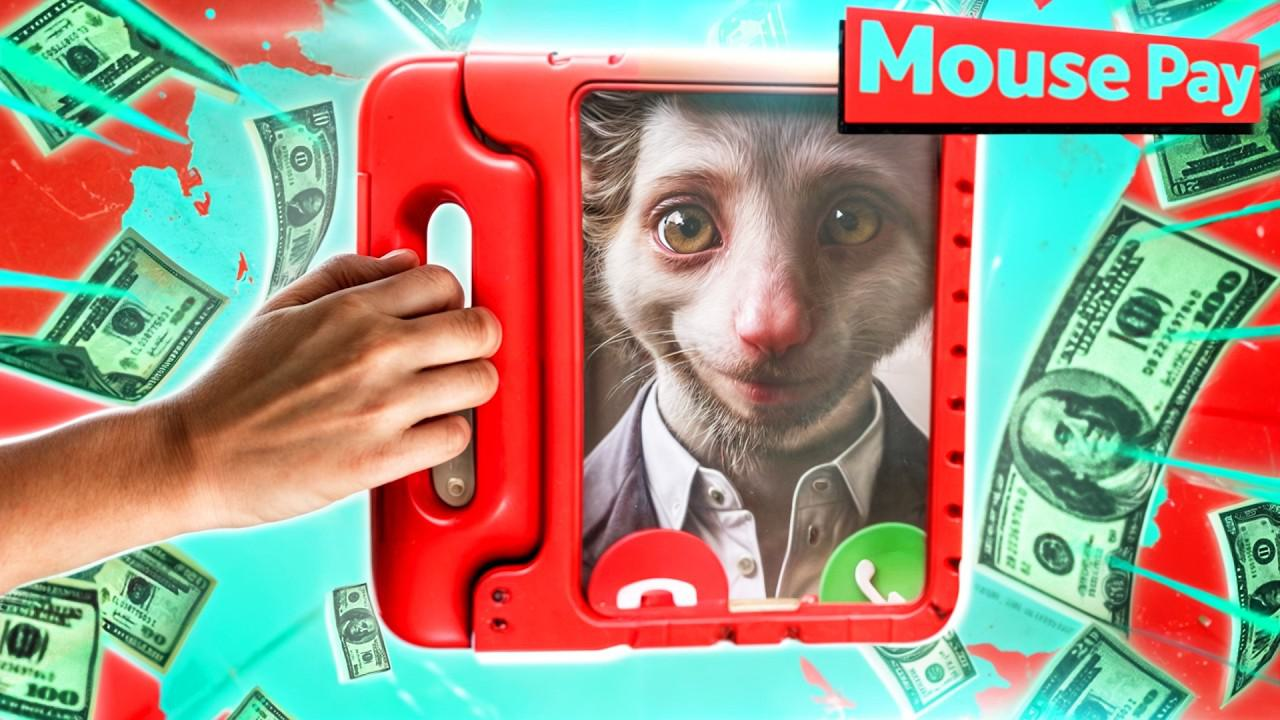mouse-pay: (572, 89, 929, 612)
